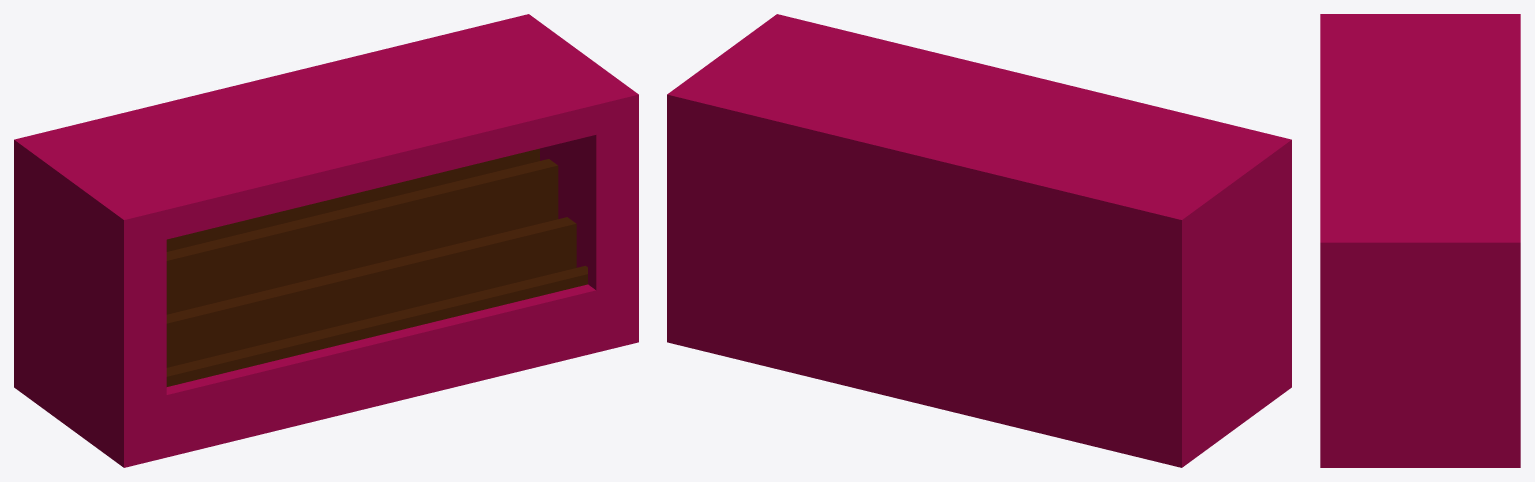
The model's file is Rack.FBX.
3 views of the same model, side by side, from view 1: azimuth 30°, elevation 25°; view 2: azimuth 150°, elevation 25°; view 3: azimuth 270°, elevation 25° (orthographic). The views are drawn at different scales.
Parts seen in each view (by area): view 1: Box001; view 2: Box001; view 3: Box001.
Part boxes in pixels (x1=…): Box001: x1=14, y1=14, x2=638, y2=467; Box001: x1=667, y1=14, x2=1291, y2=467; Box001: x1=1320, y1=14, x2=1520, y2=467.
Size of the model in its own units: 636 by 293 by 235.
